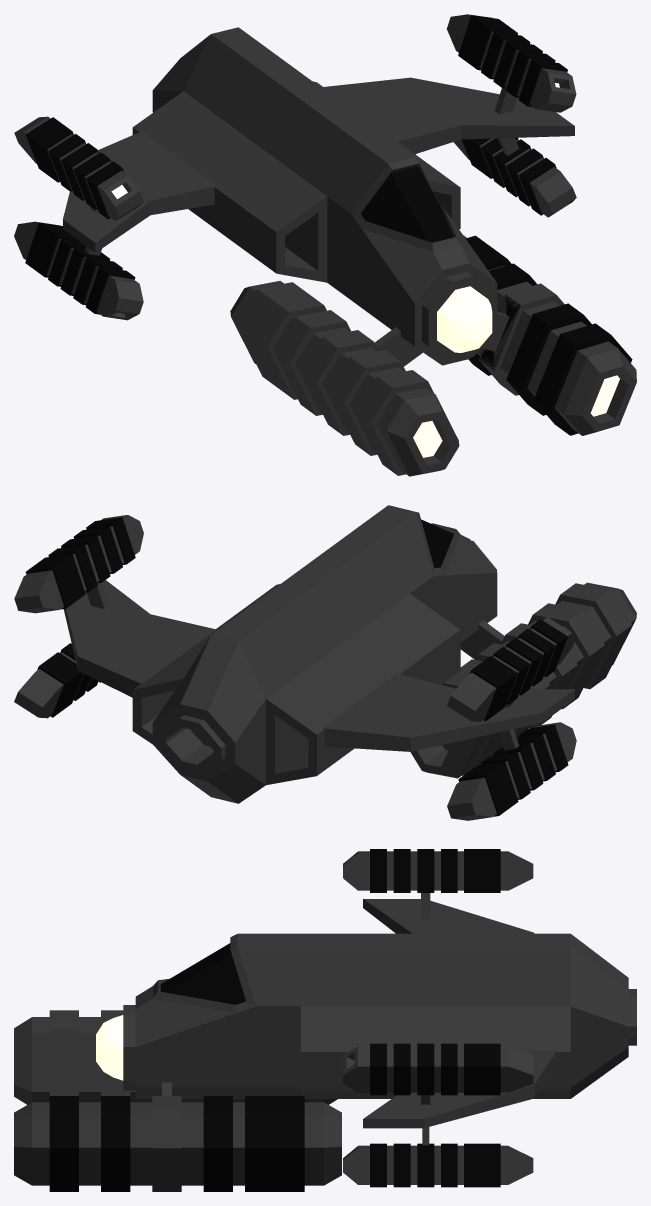
File: ship.fbx
3 renders of one model, top to bottom at view 1: azimuth 30°, elevation 25°; view 2: azimuth 150°, elevation 25°; view 3: azimuth 270°, elevation 25°, orthographic. The views are drawn at different scales.
Parts seen in each view (by area): view 1: ship; view 2: ship; view 3: ship.
Part boxes in pixels (x1,y1,x2,y2): ship: [14, 14, 636, 476]; ship: [14, 505, 636, 820]; ship: [14, 849, 636, 1191].
Size of the model in its own units: 11.61 by 5.07 by 13.89.
